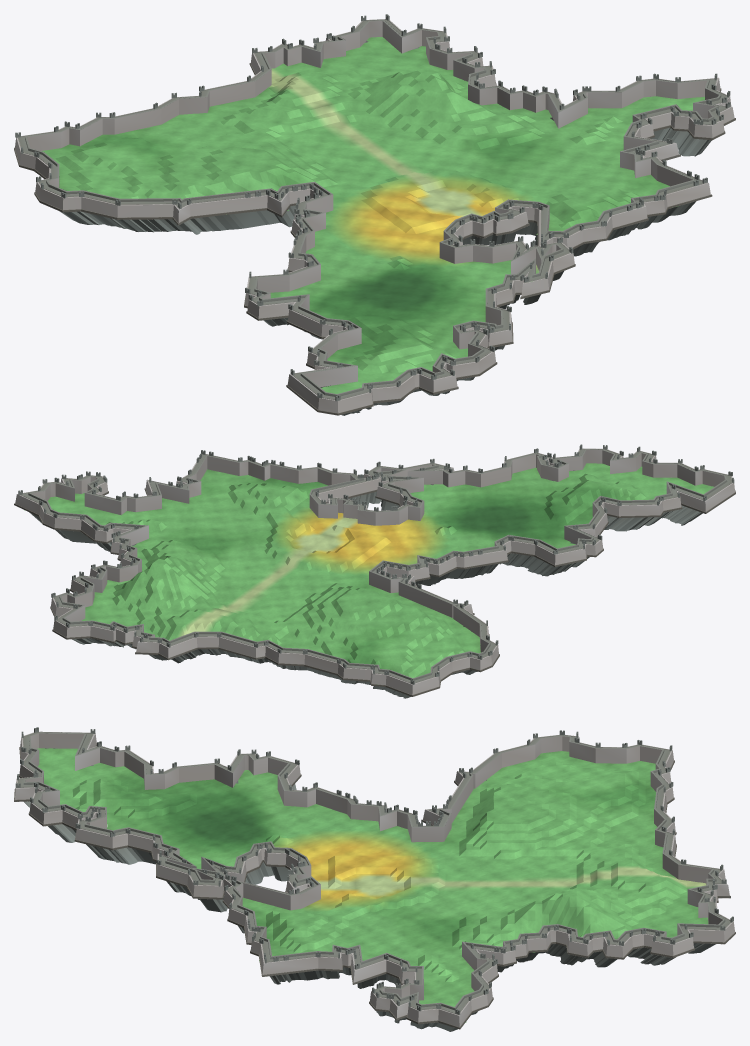
3 renders of one model, top to bottom at view 1: azimuth 30°, elevation 25°; view 2: azimuth 150°, elevation 25°; view 3: azimuth 270°, elevation 25°, orthographic. The views are drawn at different scales.
Visible parts, largest first — view 1: ground_b2514c10; view 2: ground_b2514c10; view 3: ground_b2514c10.
Part boxes in pixels (box(x1,y1,x2,y2)): ground_b2514c10: box(14, 14, 735, 415); ground_b2514c10: box(14, 444, 735, 698); ground_b2514c10: box(14, 727, 735, 1031).
Bounding box in the file's own units: 147 × 10.84 × 157.
Materials: 3 (1 with a texture image).
